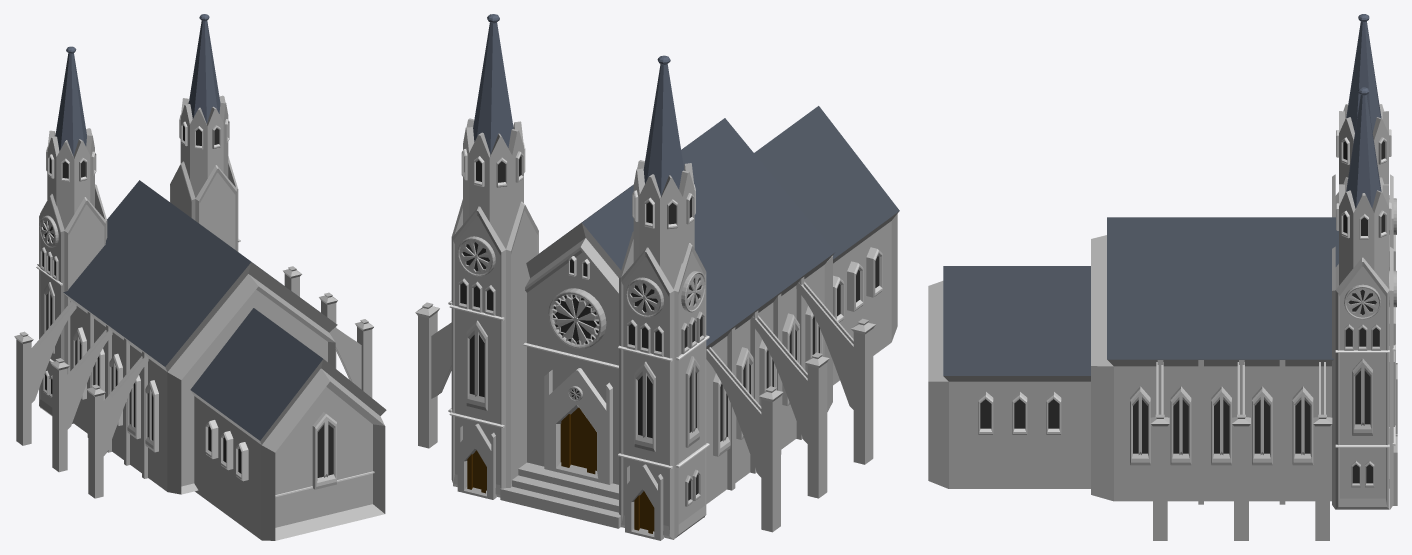
The model's file is cathedral.gltf.
The picture shows the model from 3 angles, left to right: view 1: azimuth 30°, elevation 25°; view 2: azimuth 150°, elevation 25°; view 3: azimuth 270°, elevation 25°; orthographic projection. The views are drawn at different scales.
Visible parts, largest first — view 1: node-0; view 2: node-0; view 3: node-0.
Boxes of the visible parts, x1=… form: node-0: x1=14, y1=14, x2=386, y2=540; node-0: x1=415, y1=14, x2=899, y2=540; node-0: x1=928, y1=14, x2=1397, y2=540.
Bounding box in the file's own units: 13.44 × 16.79 × 17.34.
